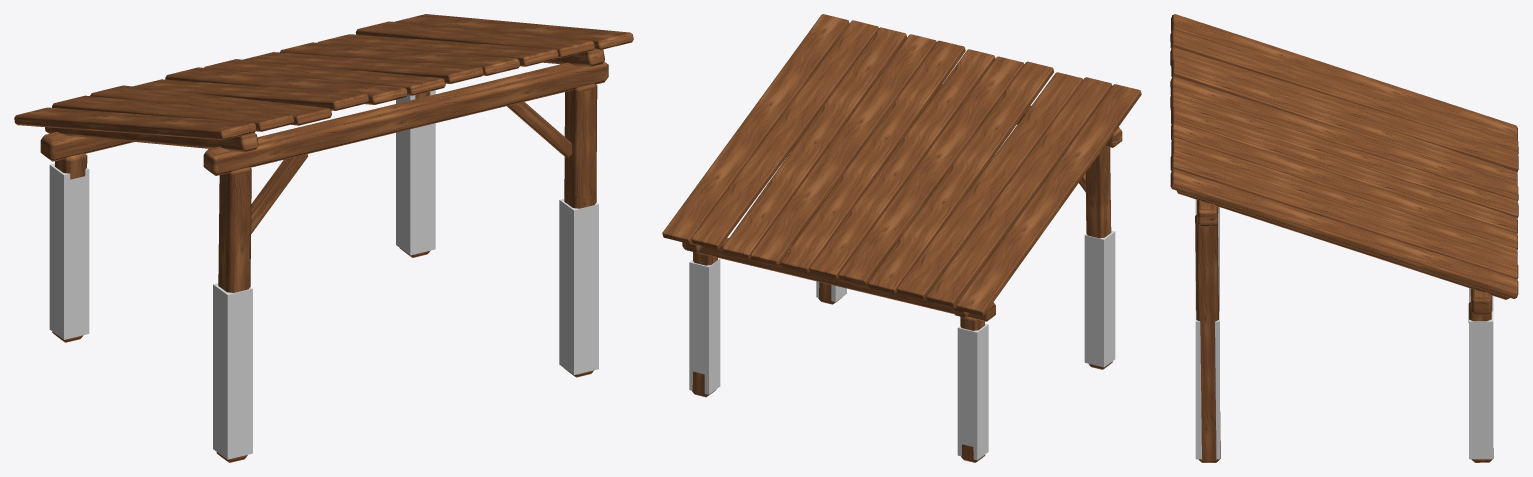
Rendered from SM_Stall_LeanTo.fbx.
3 views of the same model, side by side, from view 1: azimuth 30°, elevation 25°; view 2: azimuth 150°, elevation 25°; view 3: azimuth 270°, elevation 25° (orthographic). The views are drawn at different scales.
Parts seen in each view (by area): view 1: StallLeanTo_Body, StallLeanTo_Col1, StallLeanTo_Col0, StallLeanTo_Col2, StallLeanTo_Col3; view 2: StallLeanTo_Body, StallLeanTo_Col0, StallLeanTo_Col1, StallLeanTo_Col3; view 3: StallLeanTo_Body, StallLeanTo_Col3, StallLeanTo_Col2.
Part boxes in pixels (left/top/right/bottom): StallLeanTo_Body: left=14, top=14, right=633, bottom=462; StallLeanTo_Col1: left=49, top=163, right=89, bottom=339; StallLeanTo_Col0: left=213, top=283, right=252, bottom=459; StallLeanTo_Col2: left=559, top=199, right=598, bottom=374; StallLeanTo_Col3: left=396, top=90, right=435, bottom=255; StallLeanTo_Body: left=662, top=14, right=1141, bottom=462; StallLeanTo_Col0: left=1084, top=230, right=1115, bottom=367; StallLeanTo_Col1: left=957, top=323, right=988, bottom=460; StallLeanTo_Col3: left=689, top=258, right=720, bottom=394; StallLeanTo_Body: left=1170, top=14, right=1518, bottom=462; StallLeanTo_Col3: left=1469, top=311, right=1493, bottom=459; StallLeanTo_Col2: left=1195, top=311, right=1219, bottom=459.
Bounding box in the file's own units: 13.17 × 10.66 × 11.48.
